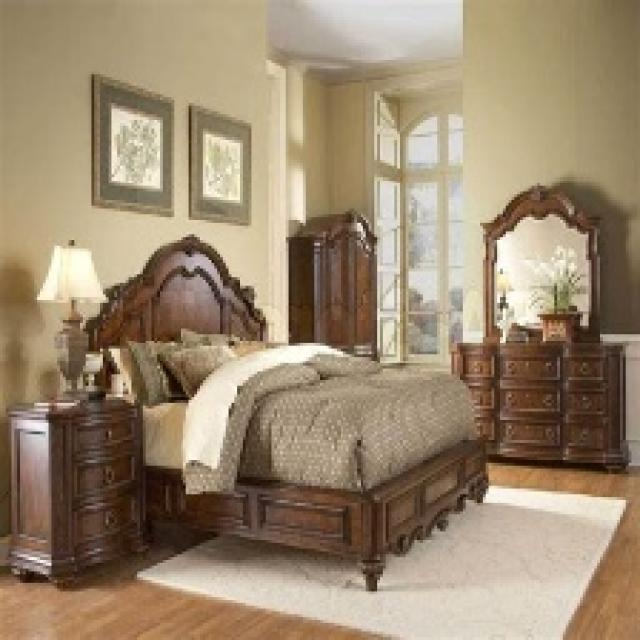Bed: (80, 232, 489, 592)
